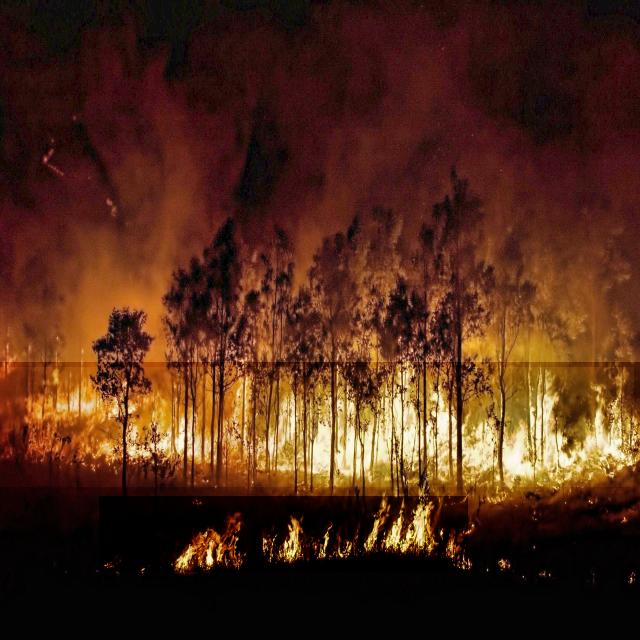Fire: (0, 367, 634, 487), (99, 496, 468, 572)
Smoke: (0, 0, 640, 362)
